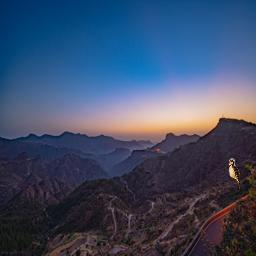Swallow: (228, 158, 240, 192)
